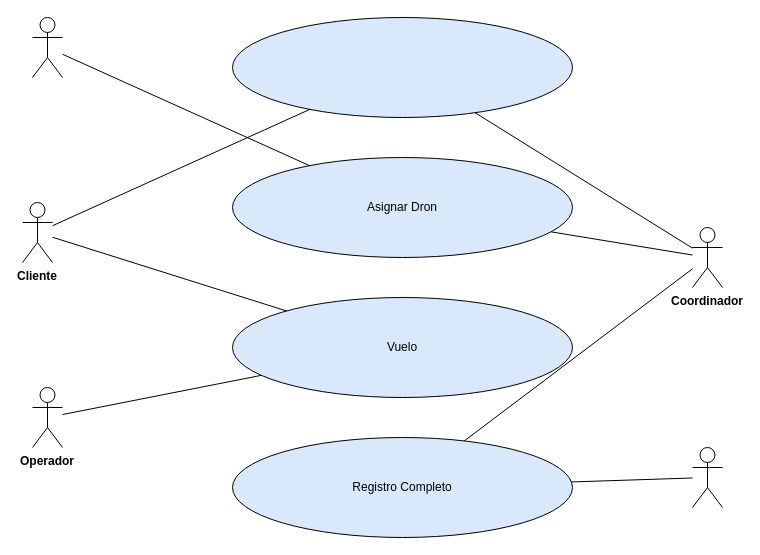
Image size: 760x555. Some labels were removed from this diagram. The centre of each missing label's shape, as x and y in pixels:
"Gerente" belongs at [707,477].
"Personal de Logística" belongs at [47,47].
"Solicitud de Paquete" belongs at [402,67].
